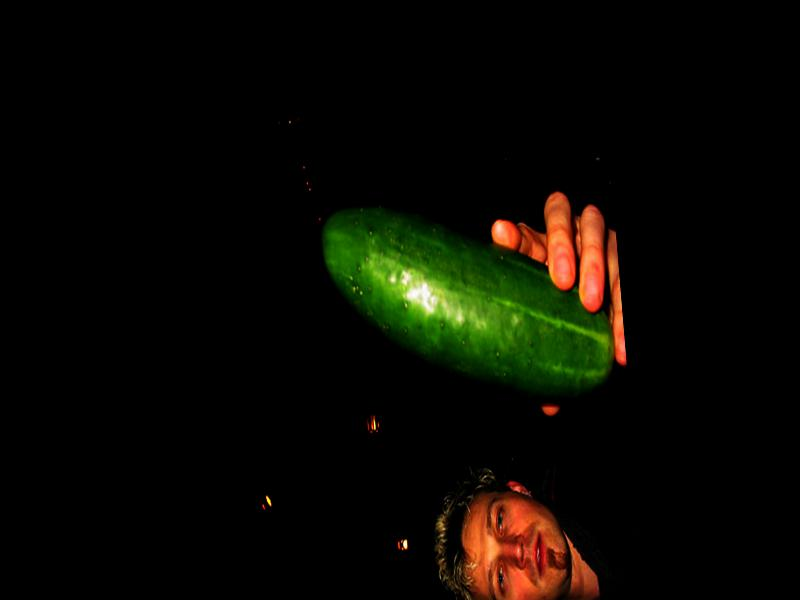Cucumber: (320, 185, 615, 414)
